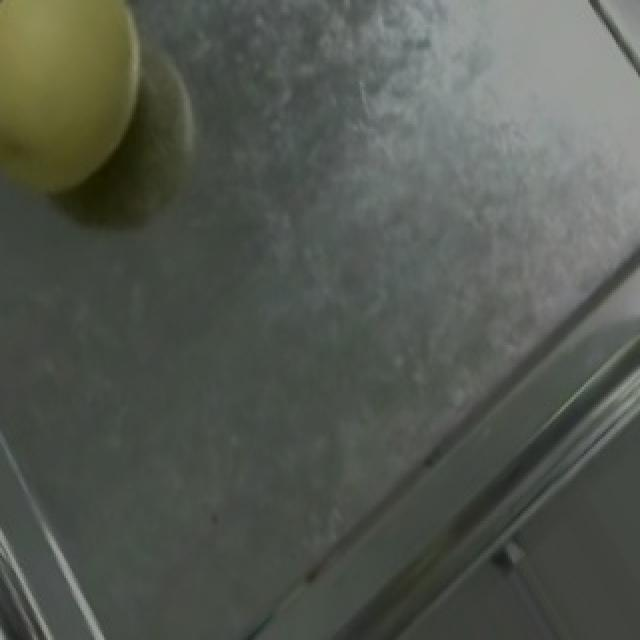Fruit: (0, 0, 176, 226)
